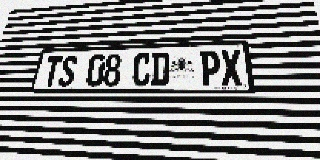0: (85, 54, 106, 86)
8: (102, 54, 123, 86)
C: (132, 53, 152, 86)
D: (150, 52, 170, 86)
P: (200, 50, 221, 86)
S: (57, 55, 78, 87)
T: (42, 56, 63, 87)
X: (220, 49, 243, 86)
